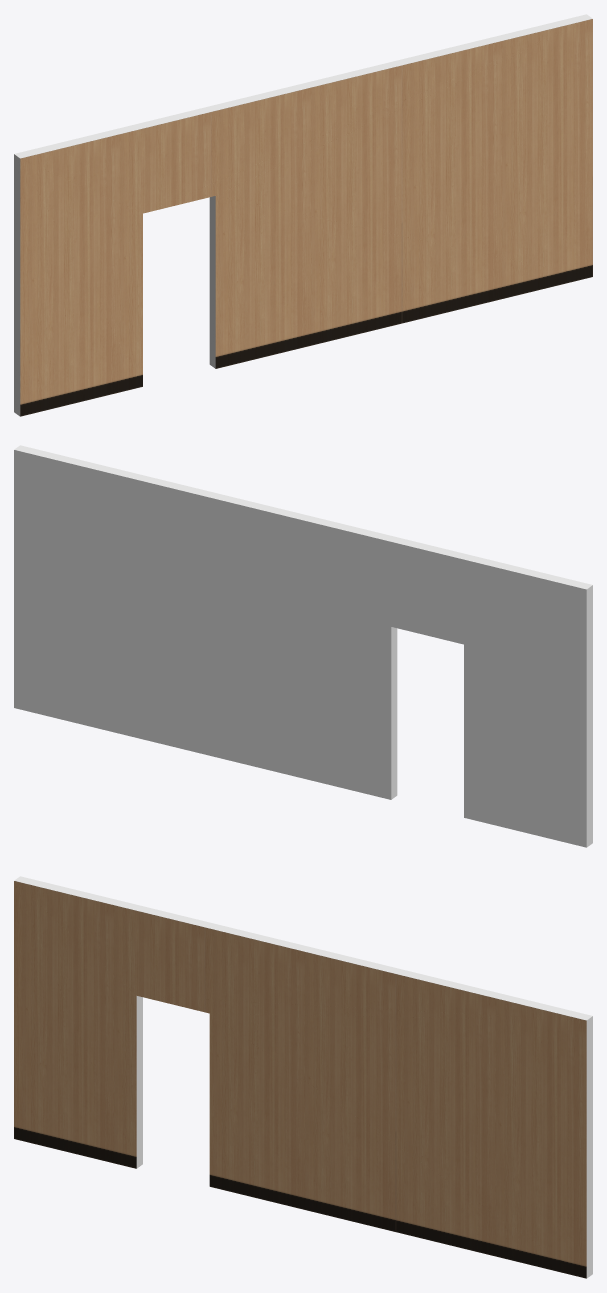
The model's file is Wall 4.FBX.
The picture shows the model from 3 angles, top to bottom: view 1: azimuth 30°, elevation 25°; view 2: azimuth 150°, elevation 25°; view 3: azimuth 330°, elevation 25°; orthographic projection.
Visible parts, largest first — view 1: Wall 4; view 2: Wall 4; view 3: Wall 4.
Part boxes in pixels (bbox=[...]): Wall 4: bbox=[14, 14, 592, 416]; Wall 4: bbox=[14, 445, 592, 847]; Wall 4: bbox=[14, 876, 592, 1278].
Bounding box in the file's own units: 703 × 303 × 13.24.
Materials: 2 (1 with a texture image).
